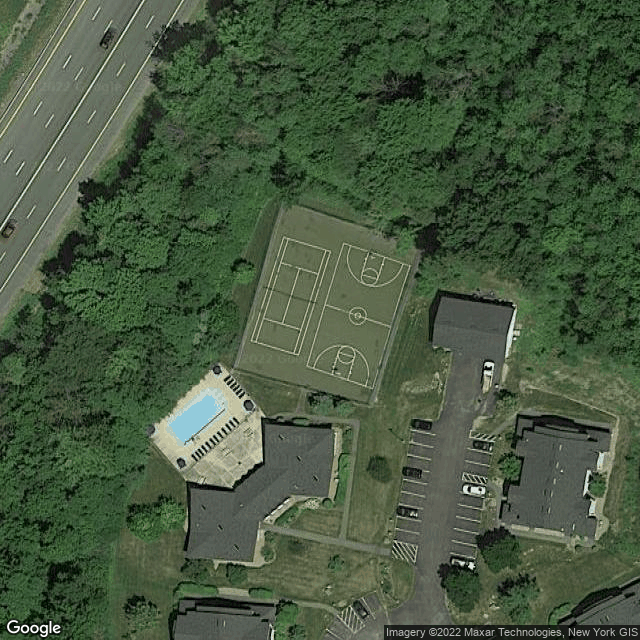Court: (247, 234, 334, 356)
